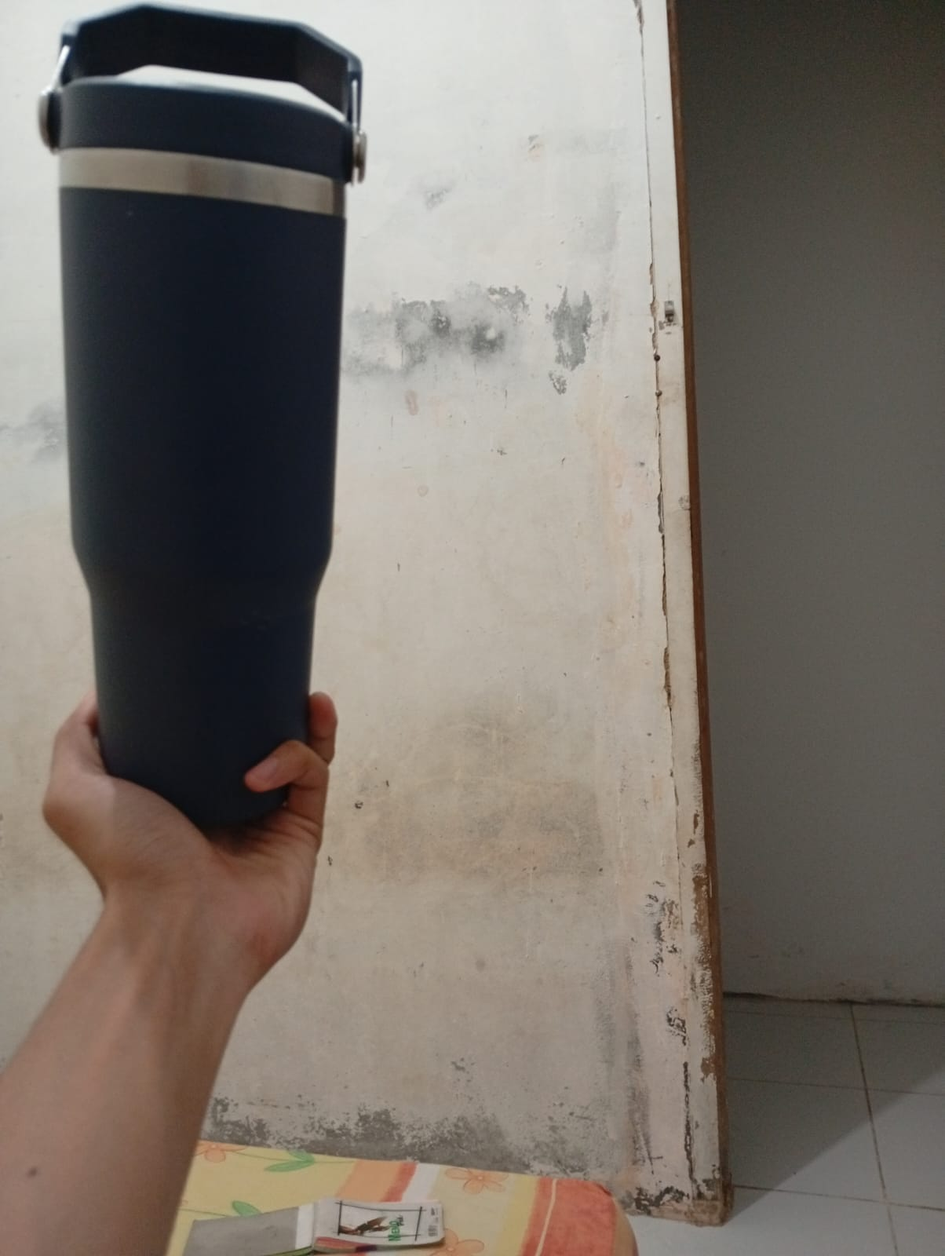Tupperware: (28, 8, 386, 877)
